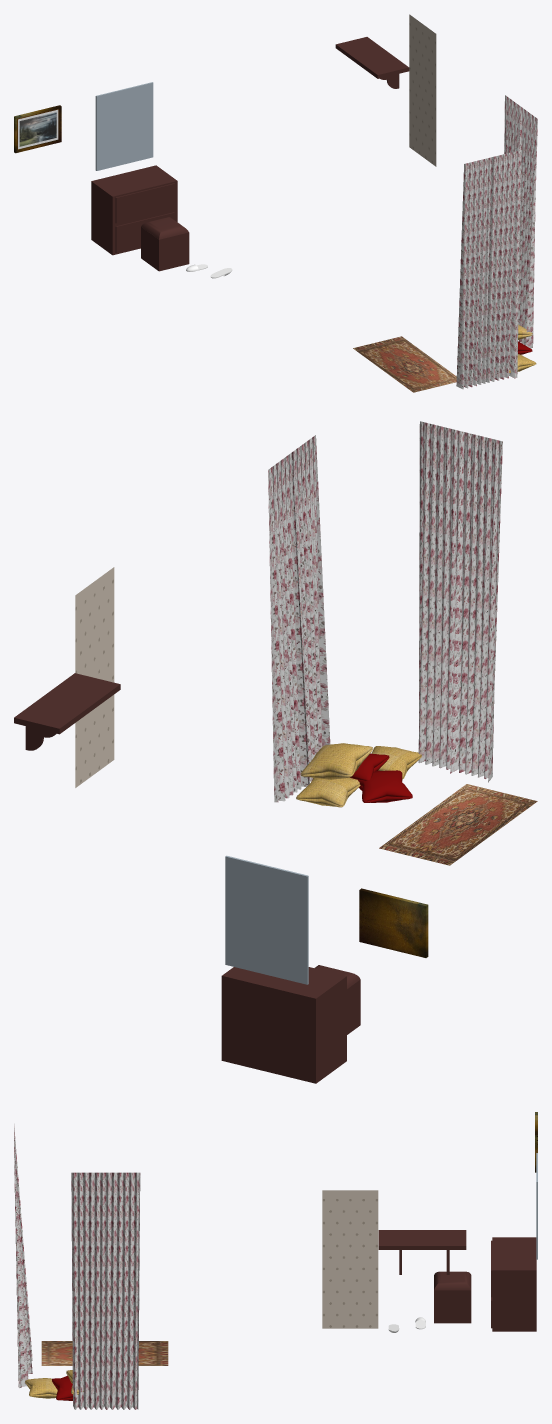
File: Objetos_Extra.obj
The picture shows the model from 3 angles, top to bottom: view 1: azimuth 30°, elevation 25°; view 2: azimuth 150°, elevation 25°; view 3: azimuth 270°, elevation 25°; orthographic projection. The views are drawn at different scales.
Visible parts, largest first — view 1: Objetos_Extra1:pasted__CORTINA_MOVIBLEgroup, Objetos_Extra1:grouppasted__pasted__pCube1pasted__group15, Objetos_Extra1:grouppasted__pCube304, Objetos_Extra1:grouppasted__pasted__CORTINA_MOVIBLE, Objetos_Extra1:grouppasted__pPlane16, Objetos_Extra1:grouppasted__pPlane17, Objetos_Extra1:Marco3pasted__group17, Objetos_Extra1:grouppasted__pasted__pCube1pasted__group10, Objetos_Extra1:grouppasted__pCube311, Objetos_Extra1:grouppasted__pCube312, Objetos_Extra1:grouppasted__pasted__Cama_Betypasted__polySurface; view 2: Objetos_Extra1:pasted__CORTINA_MOVIBLEgroup, Objetos_Extra1:grouppasted__pasted__CORTINA_MOVIBLE, Objetos_Extra1:grouppasted__pasted__pCube1pasted__group15, Objetos_Extra1:grouppasted__pCube304, Objetos_Extra1:grouppasted__pPlane16, Objetos_Extra1:grouppasted__pPlane17, Objetos_Extra1:grouppasted__pasted__Cama_Betypasted__polySurface, Objetos_Extra1:Marco3pasted__group17, Objetos_Extra1:grouppasted__pasted__pCube1pasted__group10, Objetos_Extra1:grouppasted__polySurface301pasted__pasted__Cama_B; view 3: Objetos_Extra1:grouppasted__pasted__CORTINA_MOVIBLE, Objetos_Extra1:grouppasted__pPlane16, Objetos_Extra1:grouppasted__pasted__pCube1pasted__group15, Objetos_Extra1:pasted__CORTINA_MOVIBLEgroup, Objetos_Extra1:grouppasted__pasted__pCube1pasted__group10, Objetos_Extra1:grouppasted__pPlane17, Objetos_Extra1:grouppasted__pCube311, Objetos_Extra1:grouppasted__pasted__Cama_Betypasted__polySurface, Objetos_Extra1:grouppasted__pCube312.
Boxes of the visible parts, x1=… form: Objetos_Extra1:pasted__CORTINA_MOVIBLEgroup: x1=456, y1=150, x2=521, y2=389; Objetos_Extra1:grouppasted__pasted__pCube1pasted__group15: x1=91, y1=165, x2=177, y2=255; Objetos_Extra1:grouppasted__pCube304: x1=95, y1=82, x2=153, y2=170; Objetos_Extra1:grouppasted__pasted__CORTINA_MOVIBLE: x1=504, y1=95, x2=537, y2=348; Objetos_Extra1:grouppasted__pPlane16: x1=409, y1=14, x2=436, y2=166; Objetos_Extra1:grouppasted__pPlane17: x1=353, y1=336, x2=456, y2=392; Objetos_Extra1:Marco3pasted__group17: x1=14, y1=105, x2=61, y2=153; Objetos_Extra1:grouppasted__pasted__pCube1pasted__group10: x1=335, y1=37, x2=409, y2=78; Objetos_Extra1:grouppasted__pCube311: x1=141, y1=227, x2=189, y2=271; Objetos_Extra1:grouppasted__pCube312: x1=141, y1=217, x2=188, y2=239; Objetos_Extra1:grouppasted__pasted__Cama_Betypasted__polySurface: x1=509, y1=324, x2=536, y2=372; Objetos_Extra1:pasted__CORTINA_MOVIBLEgroup: x1=418, y1=421, x2=502, y2=782; Objetos_Extra1:grouppasted__pasted__CORTINA_MOVIBLE: x1=268, y1=435, x2=330, y2=802; Objetos_Extra1:grouppasted__pasted__pCube1pasted__group15: x1=221, y1=967, x2=346, y2=1083; Objetos_Extra1:grouppasted__pCube304: x1=225, y1=855, x2=308, y2=984; Objetos_Extra1:grouppasted__pPlane16: x1=75, y1=567, x2=114, y2=787; Objetos_Extra1:grouppasted__pPlane17: x1=379, y1=784, x2=537, y2=865; Objetos_Extra1:grouppasted__pasted__Cama_Betypasted__polySurface: x1=296, y1=743, x2=421, y2=807; Objetos_Extra1:Marco3pasted__group17: x1=359, y1=888, x2=428, y2=957; Objetos_Extra1:grouppasted__pasted__pCube1pasted__group10: x1=14, y1=673, x2=120, y2=734; Objetos_Extra1:grouppasted__polySurface301pasted__pasted__Cama_B: x1=359, y1=770, x2=412, y2=802; Objetos_Extra1:grouppasted__pasted__CORTINA_MOVIBLE: x1=71, y1=1172, x2=140, y2=1409; Objetos_Extra1:grouppasted__pPlane16: x1=322, y1=1190, x2=378, y2=1328; Objetos_Extra1:grouppasted__pasted__pCube1pasted__group15: x1=491, y1=1237, x2=536, y2=1331; Objetos_Extra1:pasted__CORTINA_MOVIBLEgroup: x1=14, y1=1123, x2=32, y2=1387; Objetos_Extra1:grouppasted__pasted__pCube1pasted__group10: x1=378, y1=1230, x2=466, y2=1249; Objetos_Extra1:grouppasted__pPlane17: x1=41, y1=1341, x2=168, y2=1365; Objetos_Extra1:grouppasted__pCube311: x1=434, y1=1290, x2=471, y2=1323; Objetos_Extra1:grouppasted__pasted__Cama_Betypasted__polySurface: x1=25, y1=1370, x2=83, y2=1400; Objetos_Extra1:grouppasted__pCube312: x1=434, y1=1271, x2=471, y2=1290.
Bounding box in the file's own units: 4.9 × 3.41 × 6.7.
10 materials, 10 textured.
